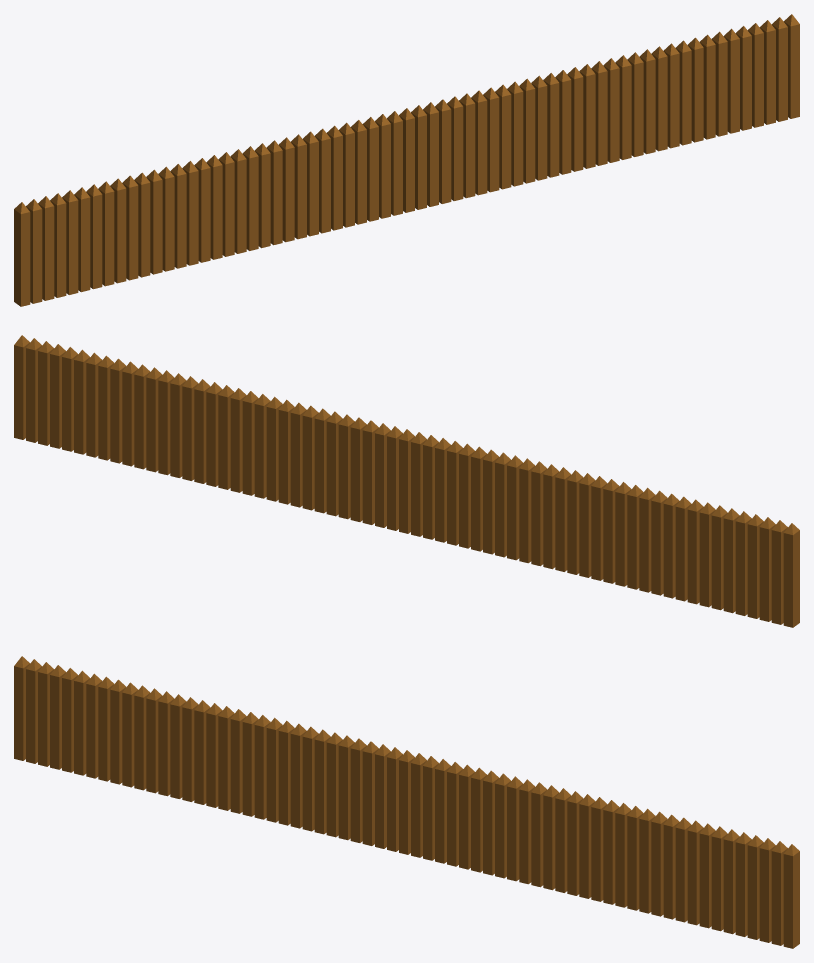
The model's file is fence.dae.
3 views of the same model, one above another, from view 1: azimuth 30°, elevation 25°; view 2: azimuth 150°, elevation 25°; view 3: azimuth 330°, elevation 25° (orthographic).
Visible parts, largest first — view 1: Cube_001; view 2: Cube_001; view 3: Cube_001.
Part boxes in pixels (<box>): Cube_001: <box>14,14,799,306</box>; Cube_001: <box>14,335,799,627</box>; Cube_001: <box>14,656,799,948</box>.
Size of the model in its own units: 12.72 by 0.1964 by 1.58.
